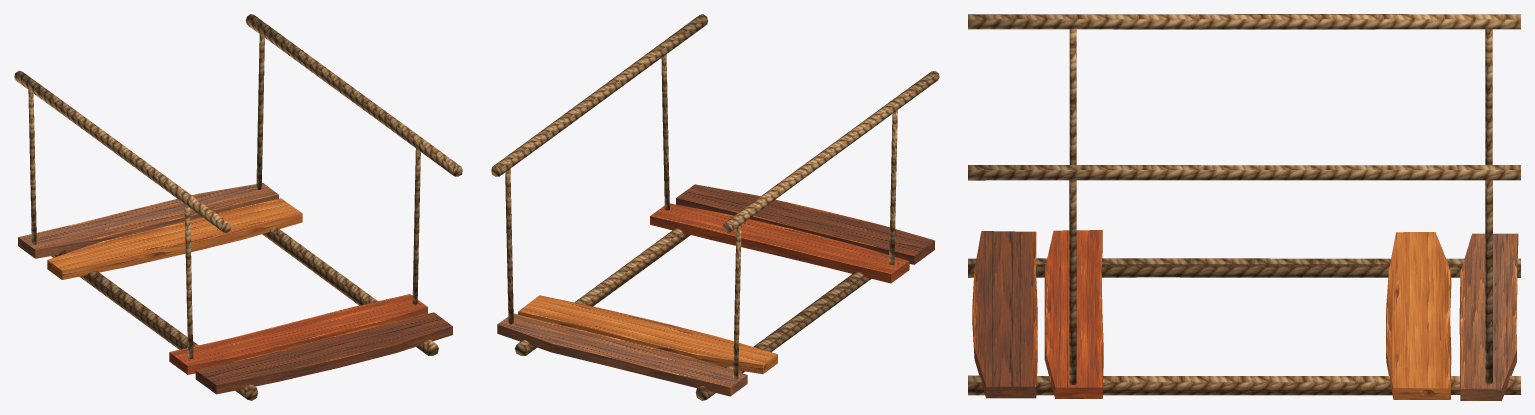
The model's file is bridge_plank_gap.glb.
3 views of the same model, side by side, from view 1: azimuth 30°, elevation 25°; view 2: azimuth 150°, elevation 25°; view 3: azimuth 270°, elevation 25° (orthographic). The views are drawn at different scales.
Parts seen in each view (by area): view 1: model; view 2: model; view 3: model.
Part boxes in pixels (<box>): model: <box>14,14,462,400</box>; model: <box>491,14,939,400</box>; model: <box>968,14,1520,400</box>.
Size of the model in its own units: 1.35 by 0.9763 by 1.99.
7 materials, 7 textured.
